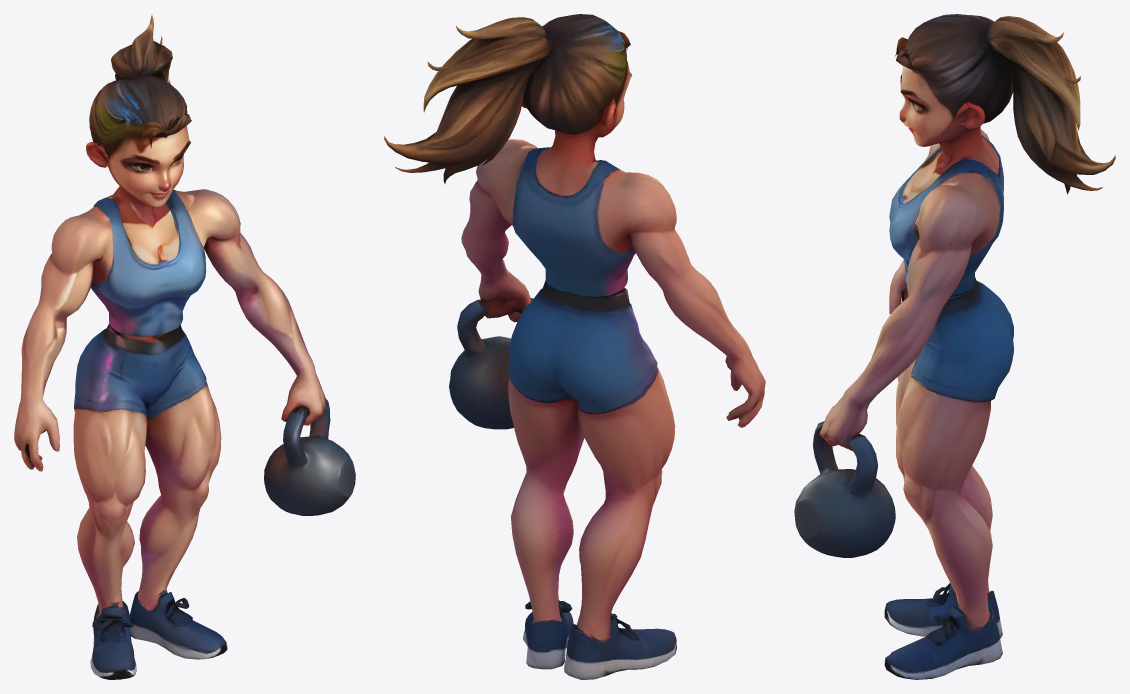
3 renders of one model, left to right at view 1: azimuth 30°, elevation 25°; view 2: azimuth 150°, elevation 25°; view 3: azimuth 270°, elevation 25°, orthographic. The views are drawn at different scales.
Size of the model in its own units: 0.9194 by 1.7 by 0.7624.
Materials: 1 (1 with a texture image).
